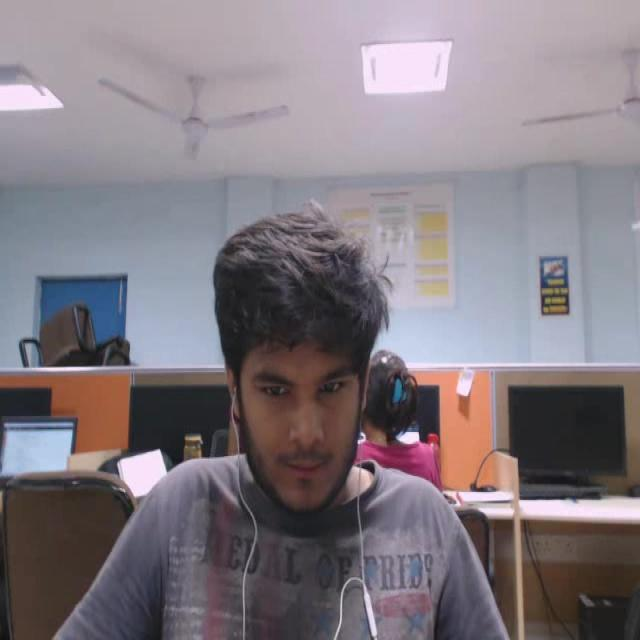Bored: (189, 199, 418, 586)
